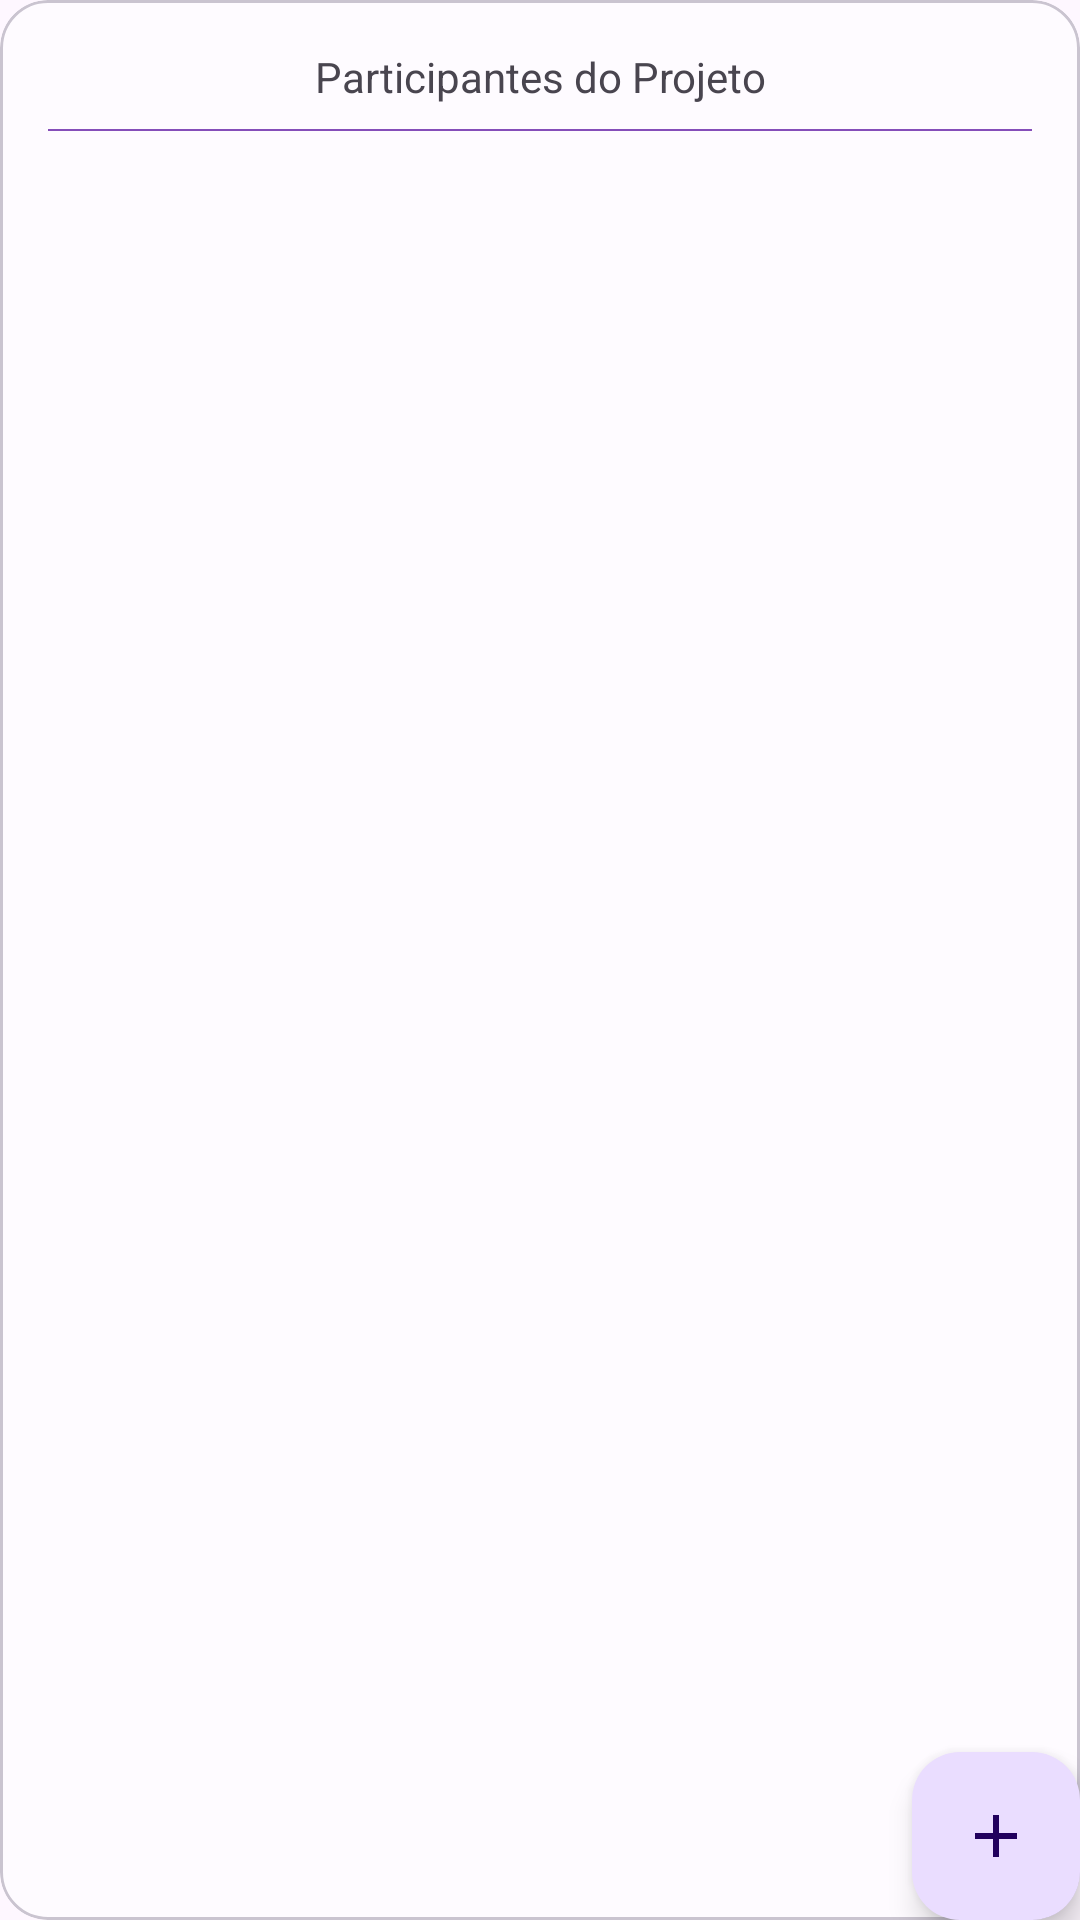

Icons on this 1080px x 1920px Android screen, each with the point to tap as [x,y]:
add: [996,1836]
